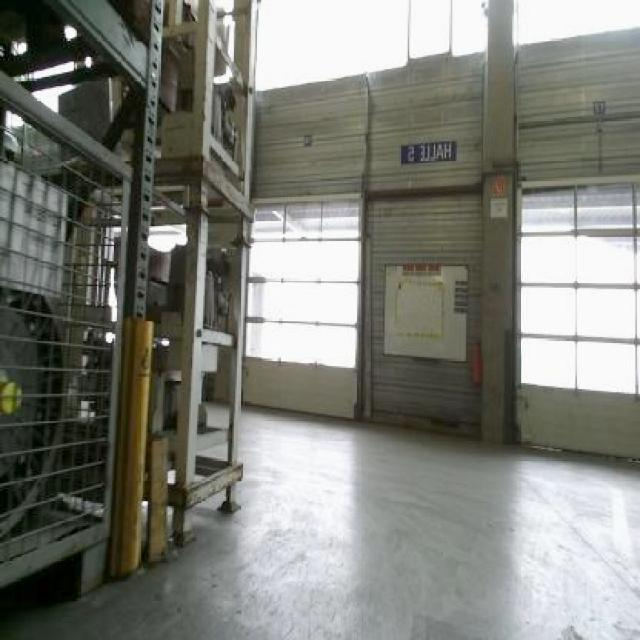floor: (0, 408, 637, 637)
